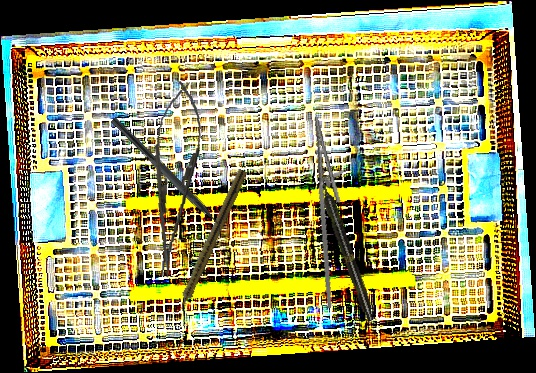Chopper: (103, 116, 231, 242)
Handpiece: (171, 167, 248, 318), (315, 175, 378, 323)
Needle Holder: (291, 113, 369, 309), (140, 79, 208, 281)
